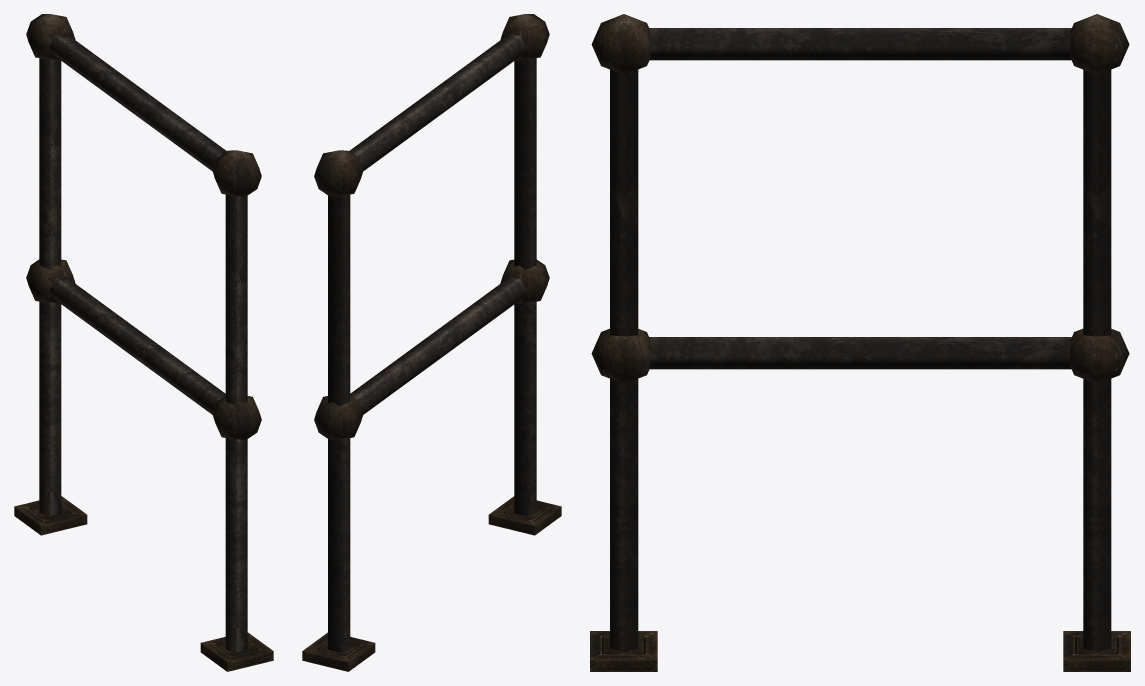
The model's file is railings_factory_1m_dirty.DAE.
3 views of the same model, side by side, from view 1: azimuth 30°, elevation 25°; view 2: azimuth 150°, elevation 25°; view 3: azimuth 270°, elevation 25° (orthographic). The views are drawn at different scales.
Parts seen in each view (by area): view 1: Object134; view 2: Object134; view 3: Object134.
Boxes of the visible parts, x1,y1,x2,y2 form: Object134: [14, 14, 273, 671]; Object134: [302, 14, 561, 671]; Object134: [590, 14, 1130, 671].
Bounding box in the file's own units: 0.125 × 1.31 × 0.9994.
